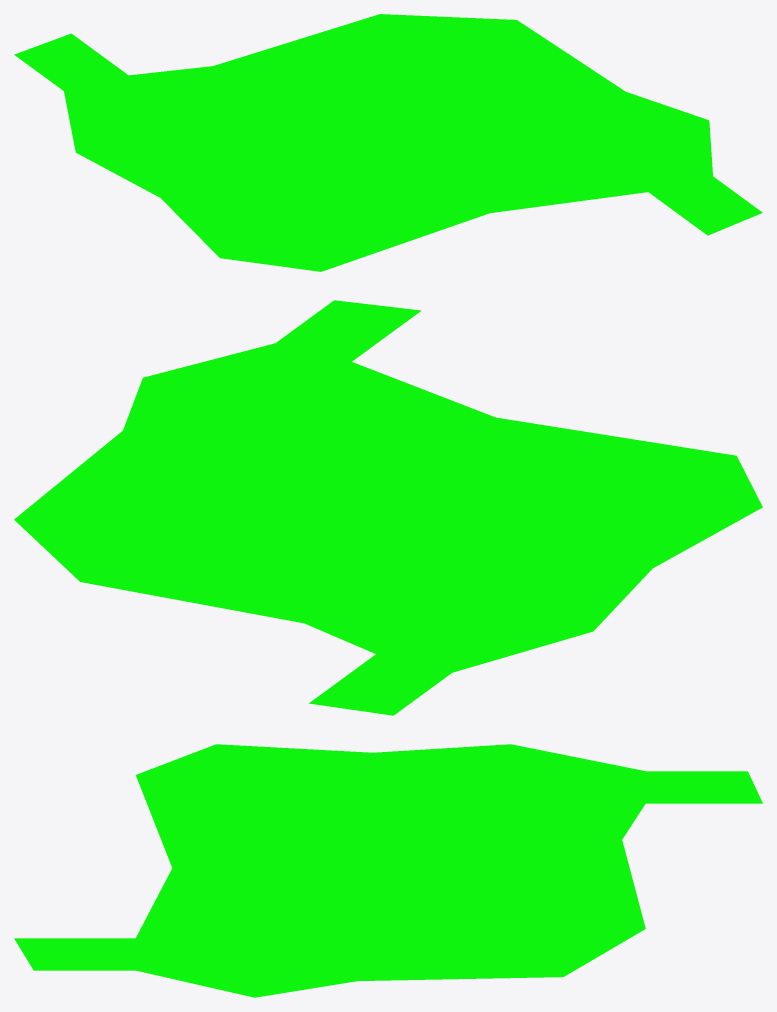
The model's file is s01a_ib1-floor.glb.
3 views of the same model, one above another, from view 1: azimuth 30°, elevation 25°; view 2: azimuth 150°, elevation 25°; view 3: azimuth 270°, elevation 25° (orthographic). The views are drawn at different scales.
Parts seen in each view (by area): view 1: collision_floor-colonly; view 2: collision_floor-colonly; view 3: collision_floor-colonly.
Part boxes in pixels (x1,y1,x2,y2): collision_floor-colonly: [14, 14, 762, 271]; collision_floor-colonly: [14, 300, 762, 715]; collision_floor-colonly: [14, 744, 762, 997].
Bounding box in the file's own units: 47.04 × 0 × 58.73.
